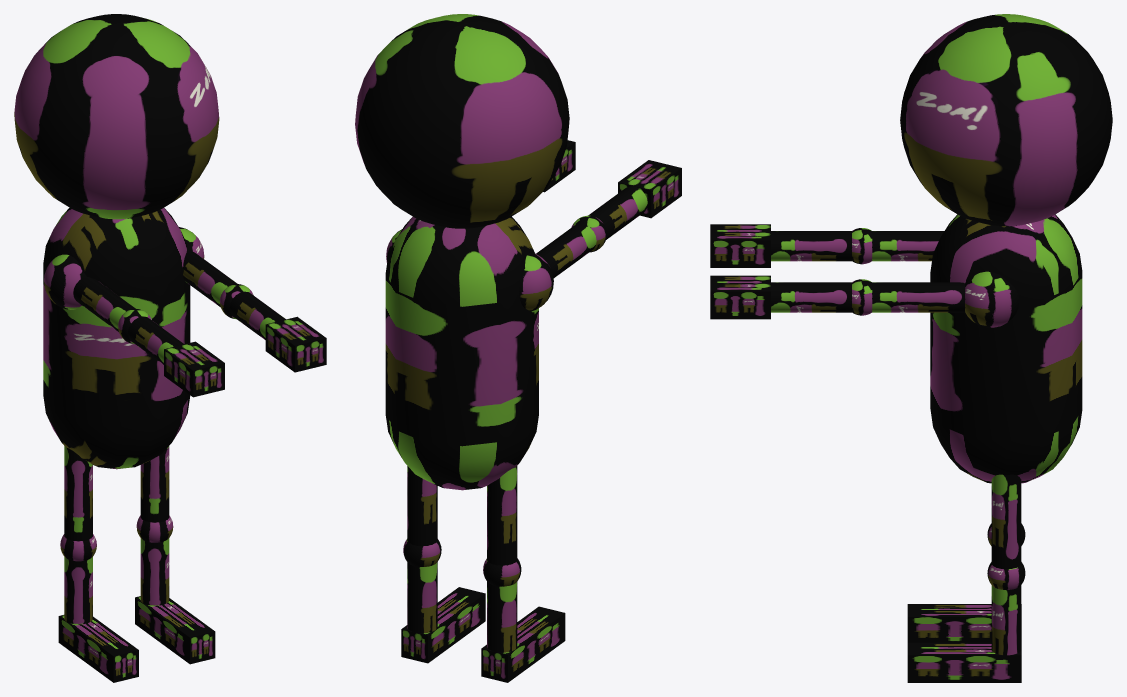
Rendered from SmallZombie14.fbx.
3 renders of one model, left to right at view 1: azimuth 30°, elevation 25°; view 2: azimuth 150°, elevation 25°; view 3: azimuth 270°, elevation 25°, orthographic. The views are drawn at different scales.
Parts seen in each view (by area): view 1: Mini Zombie; view 2: Mini Zombie; view 3: Mini Zombie.
Boxes of the visible parts, x1,y1,x2,y2 form: Mini Zombie: [14, 14, 326, 682]; Mini Zombie: [355, 14, 681, 682]; Mini Zombie: [710, 14, 1112, 682].
Size of the model in its own units: 952 by 3128 by 1802.
